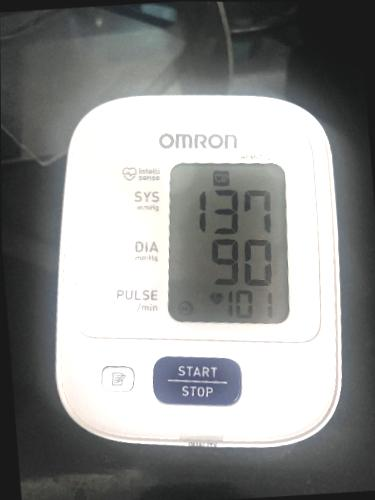bpm: (162, 158, 296, 326)
